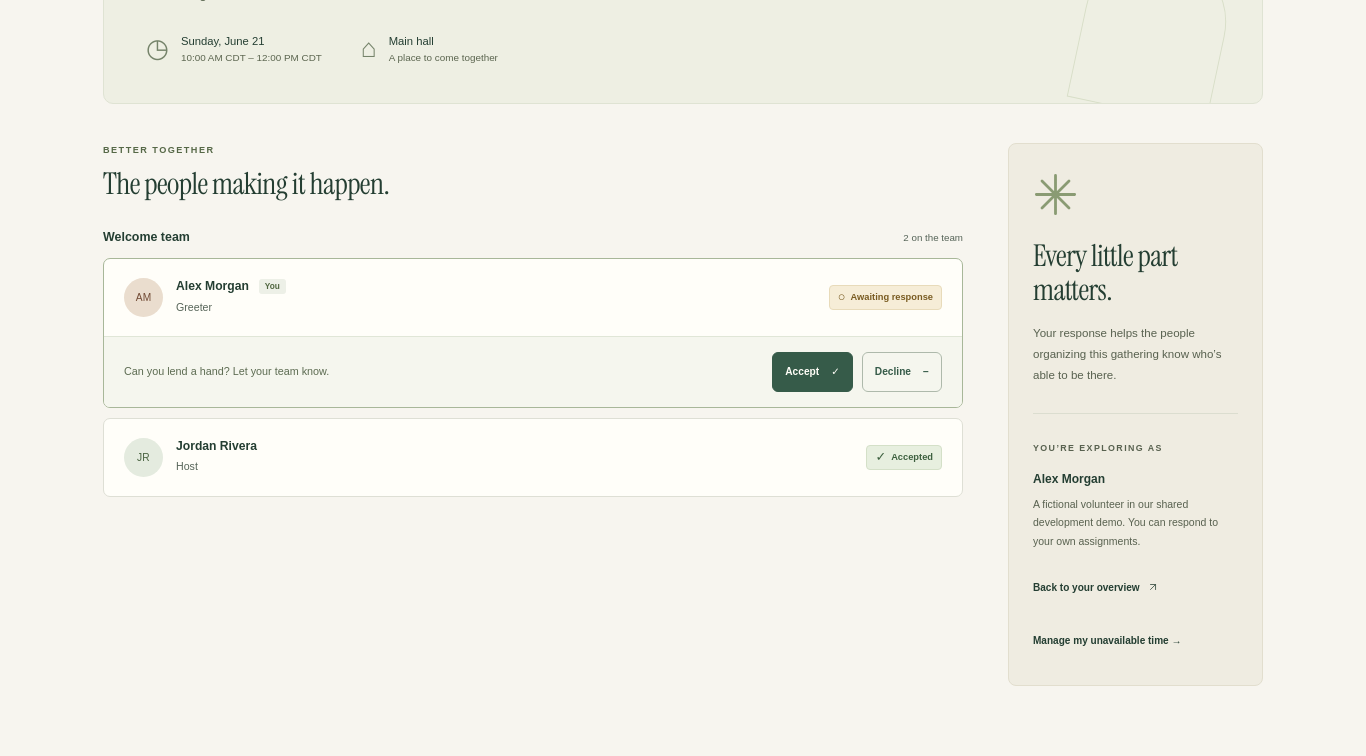
Test case: the community demo › saves a Accepted response using the current version and updates the visible status
(page scrolled)
Click the button "Accept ✓": (813, 372) left=772, top=352, right=853, bottom=392
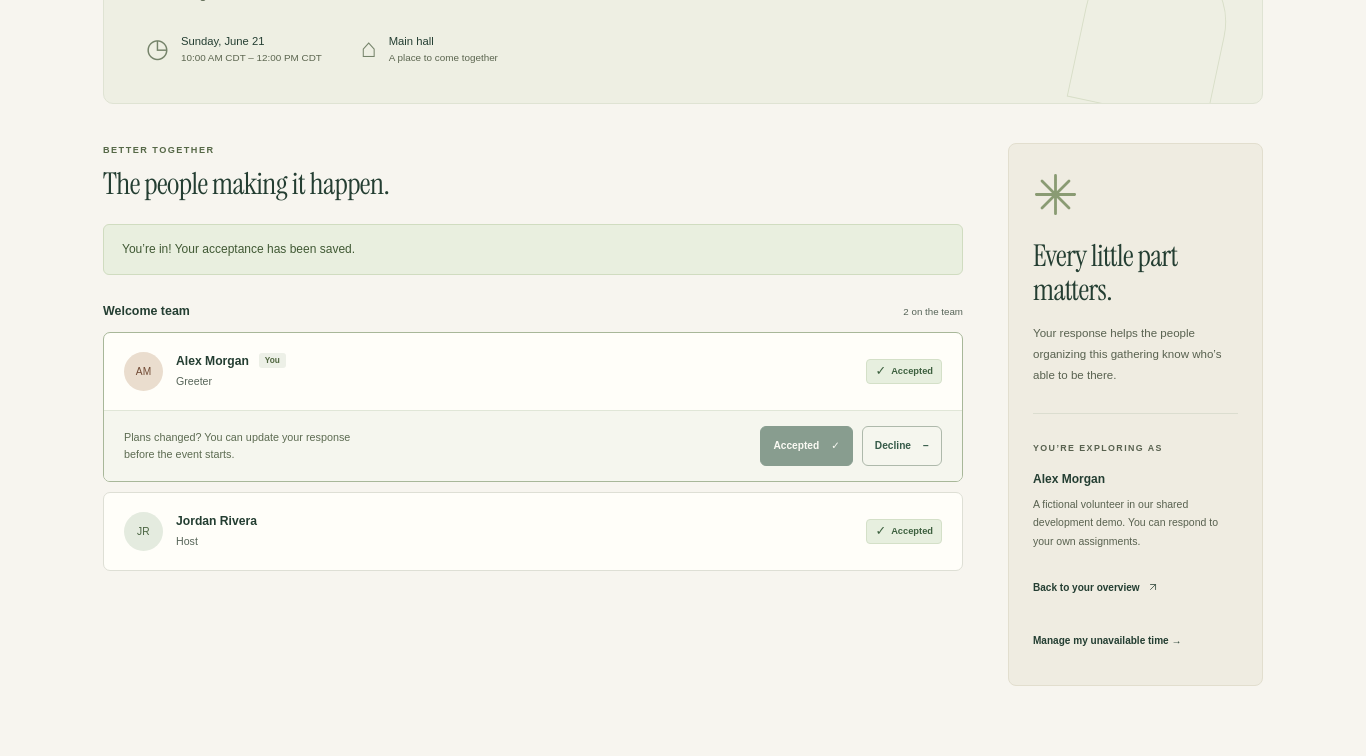
Expected: the message shows "Your acceptance has been saved", left=122, top=242, right=355, bottom=256
Expected: the button "Accepted ✓" is disabled, left=760, top=426, right=853, bottom=466
